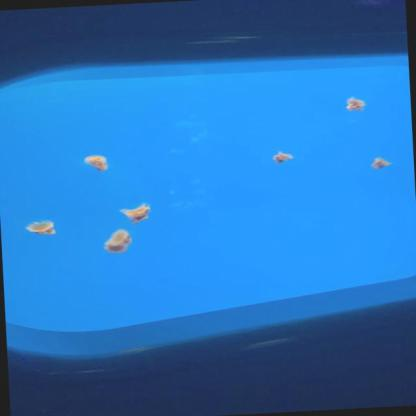jellyfish: (104, 228, 132, 255), (119, 204, 153, 226), (25, 218, 58, 236), (82, 154, 110, 172), (344, 96, 368, 112), (270, 150, 294, 165), (370, 156, 390, 171)
